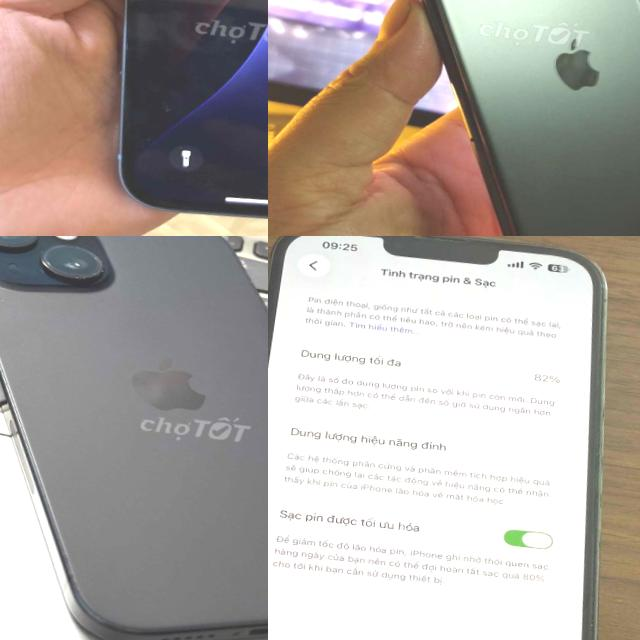gen_11: (339, 0, 640, 236)
gen_12_13: (268, 236, 640, 640), (74, 0, 268, 236)
gen_15: (0, 236, 268, 640)
